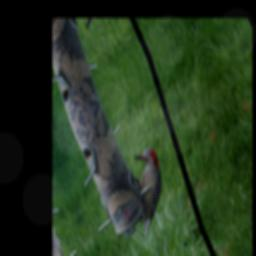Woodpecker: (120, 141, 177, 238)
